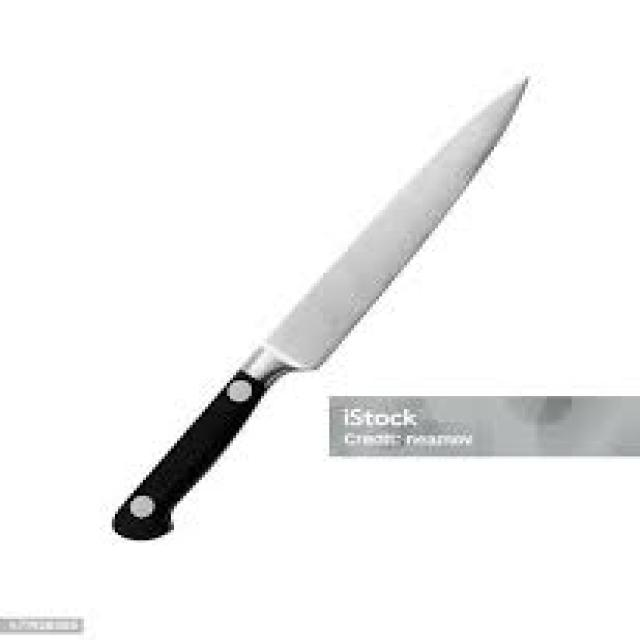Knife: (109, 73, 528, 540)
